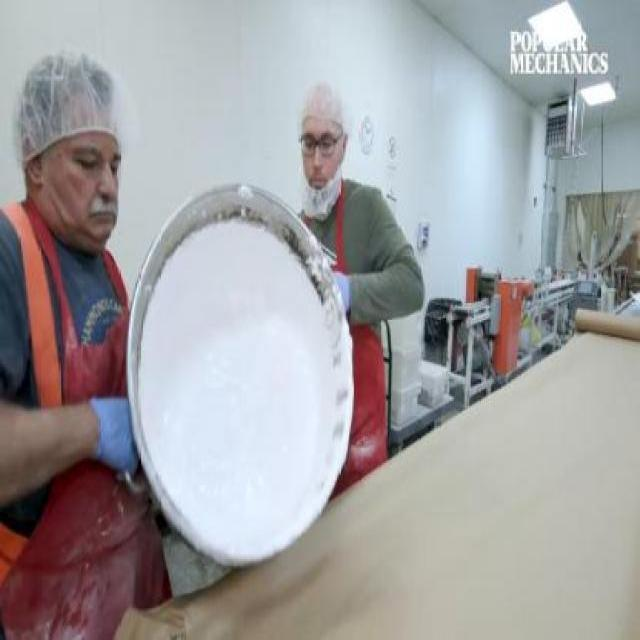gloved_hand: (86, 364, 151, 492), (327, 261, 369, 330)
